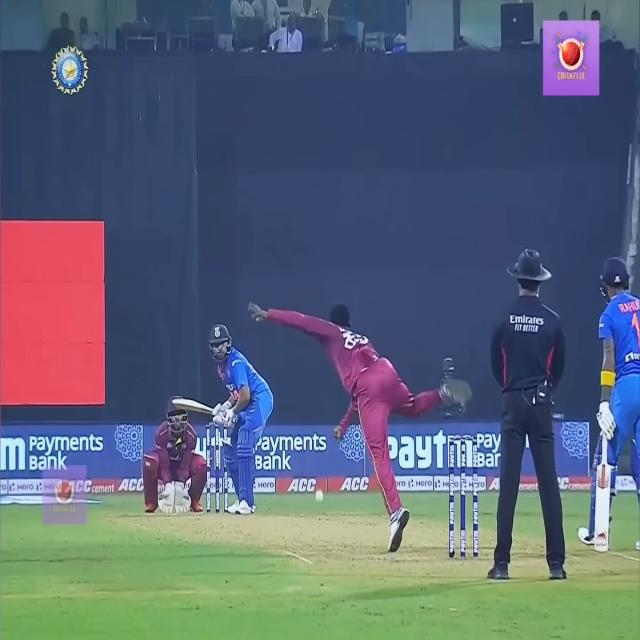partially_visible: (383, 430, 477, 478)
